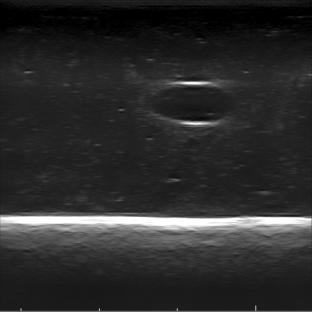vessel: (149, 80, 236, 128)
